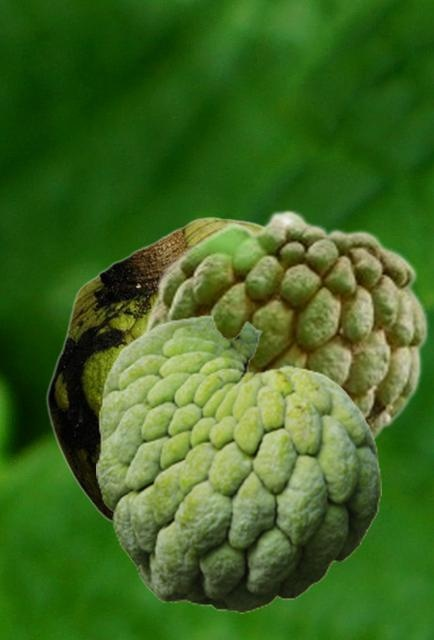atis: (96, 314, 380, 612), (140, 208, 428, 441), (45, 216, 261, 522)
